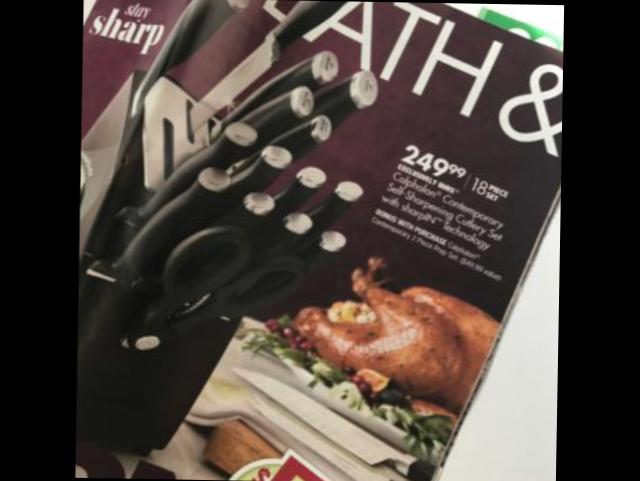cardboard paper: (75, 0, 564, 481)
